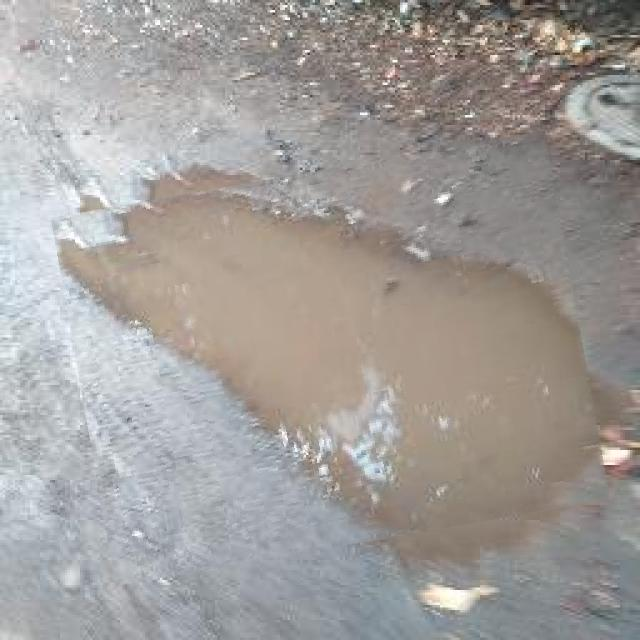puddle: (66, 153, 597, 568)
